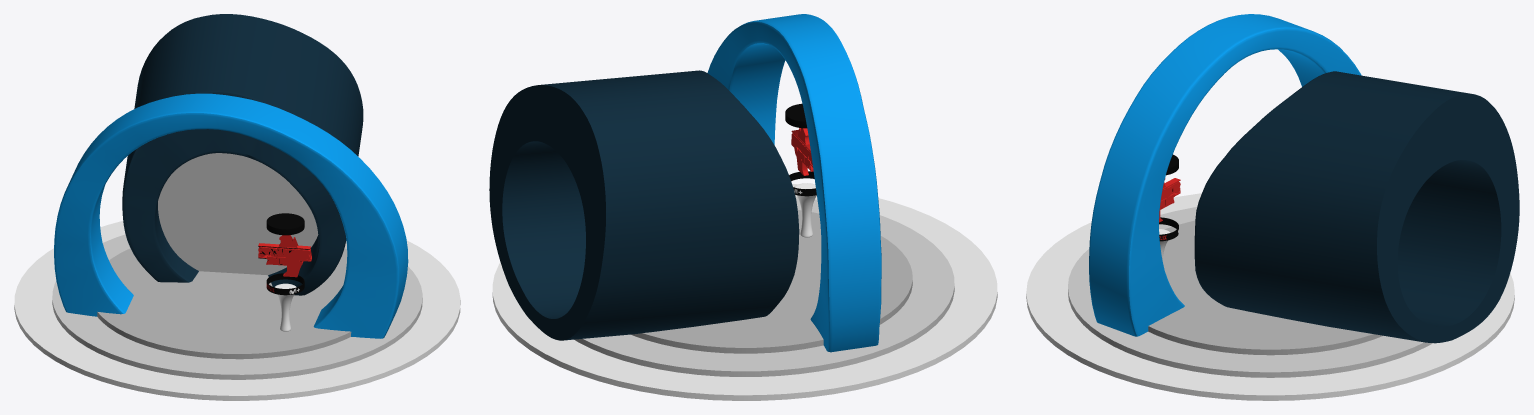
Rendered from SM_Corner_StrangerThings.fbx.
3 views of the same model, side by side, from view 1: azimuth 30°, elevation 25°; view 2: azimuth 150°, elevation 25°; view 3: azimuth 270°, elevation 25° (orthographic). The views are drawn at different scales.
Parts seen in each view (by area): view 1: ST_Portal_peq, ST_Portal, Escalon1, Escalon3, Video_Portal, Escalon2, ROJO, pCylinder21, pCylinder20, Cilindro_logos, LOGO_ST; view 2: ST_Portal_peq, ST_Portal, Escalon1, Escalon2, Escalon3, pCylinder20, ROJO; view 3: ST_Portal_peq, ST_Portal, Escalon1, Escalon3, Escalon2.
Boxes of the visible parts, left/top/right/bottom form: ST_Portal_peq: left=122, top=14, right=363, bottom=295; ST_Portal: left=54, top=93, right=408, bottom=338; Escalon1: left=14, top=221, right=460, bottom=400; Escalon3: left=97, top=248, right=351, bottom=359; Video_Portal: left=158, top=153, right=318, bottom=275; Escalon2: left=52, top=234, right=422, bottom=379; ROJO: left=258, top=243, right=311, bottom=266; pCylinder21: left=266, top=213, right=304, bottom=235; pCylinder20: left=275, top=283, right=296, bottom=331; Cilindro_logos: left=266, top=273, right=304, bottom=295; LOGO_ST: left=266, top=235, right=302, bottom=277; ST_Portal_peq: left=489, top=70, right=799, bottom=340; ST_Portal: left=707, top=14, right=881, bottom=352; Escalon1: left=492, top=184, right=997, bottom=400; Escalon2: left=574, top=197, right=954, bottom=376; Escalon3: left=631, top=210, right=912, bottom=353; pCylinder20: left=794, top=183, right=816, bottom=237; ROJO: left=791, top=129, right=812, bottom=169; ST_Portal_peq: left=1194, top=71, right=1519, bottom=343; ST_Portal: left=1089, top=14, right=1361, bottom=336; Escalon1: left=1026, top=193, right=1514, bottom=400; Escalon3: left=1148, top=220, right=1383, bottom=355; Escalon2: left=1068, top=207, right=1432, bottom=377.
Size of the model in its own units: 8.4 by 4.84 by 8.48.
